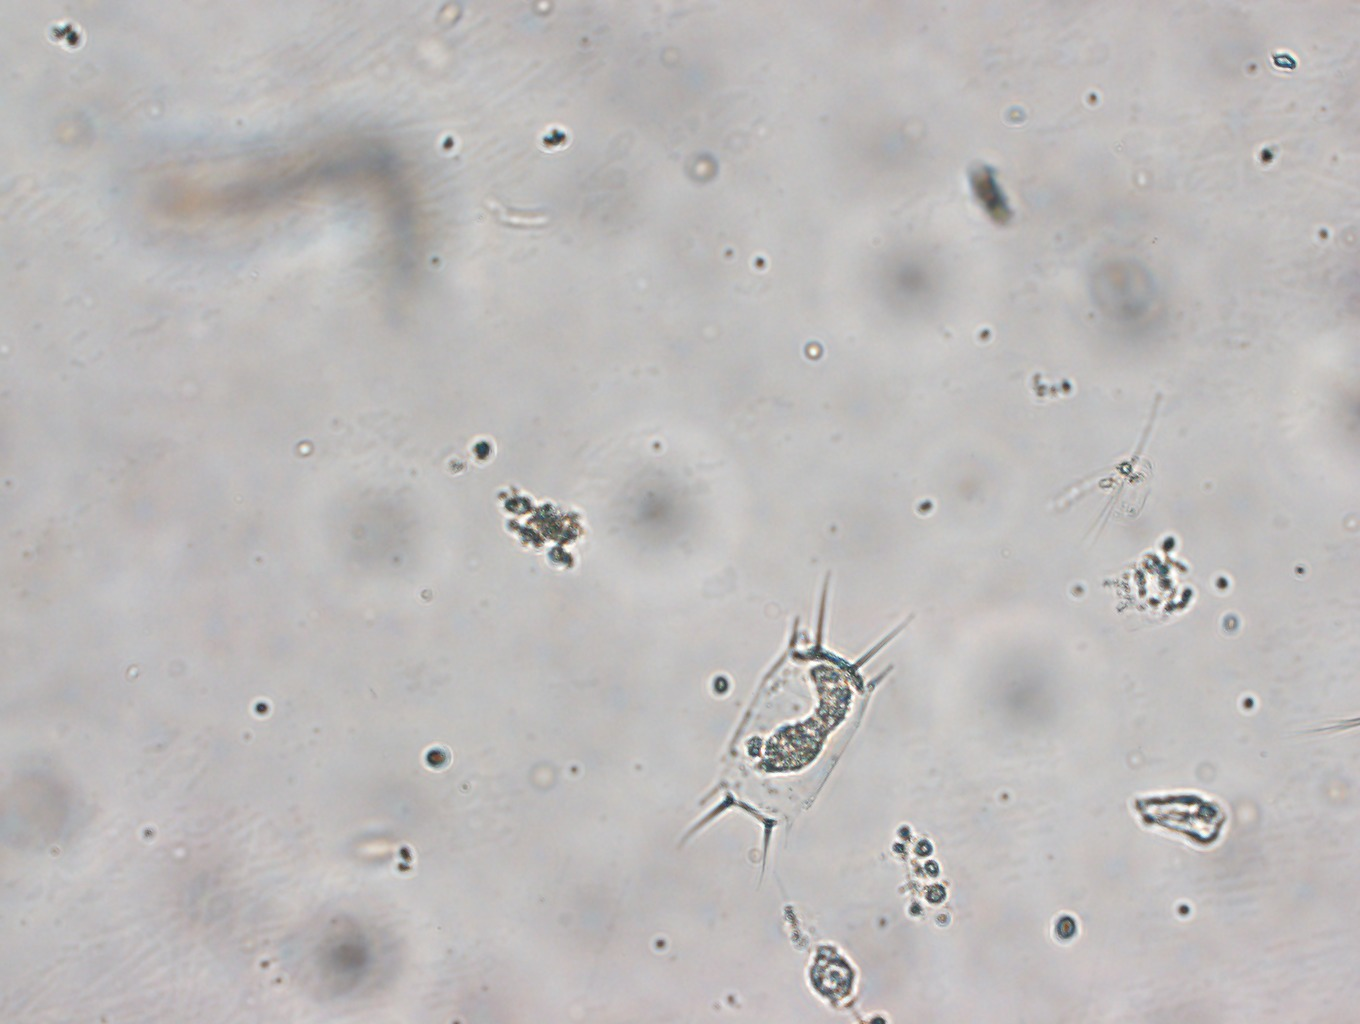biddulphia: (676, 572, 914, 885)
